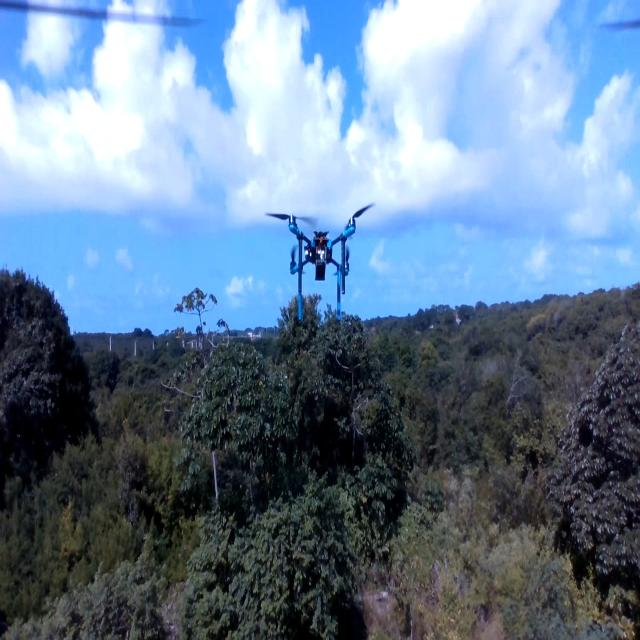-uav-: (258, 190, 375, 339)
